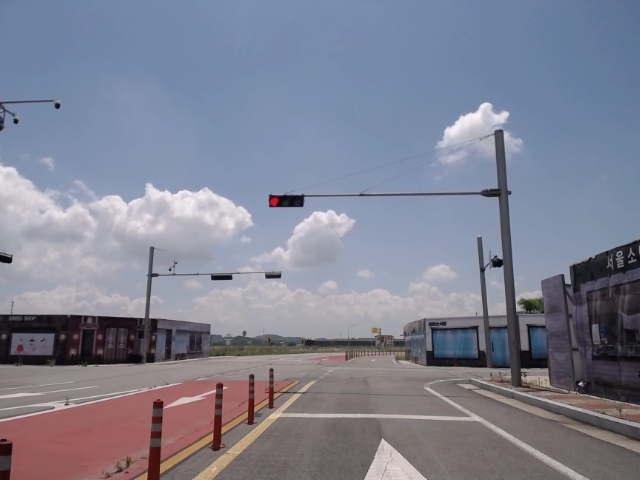red_3: (265, 193, 307, 207)
